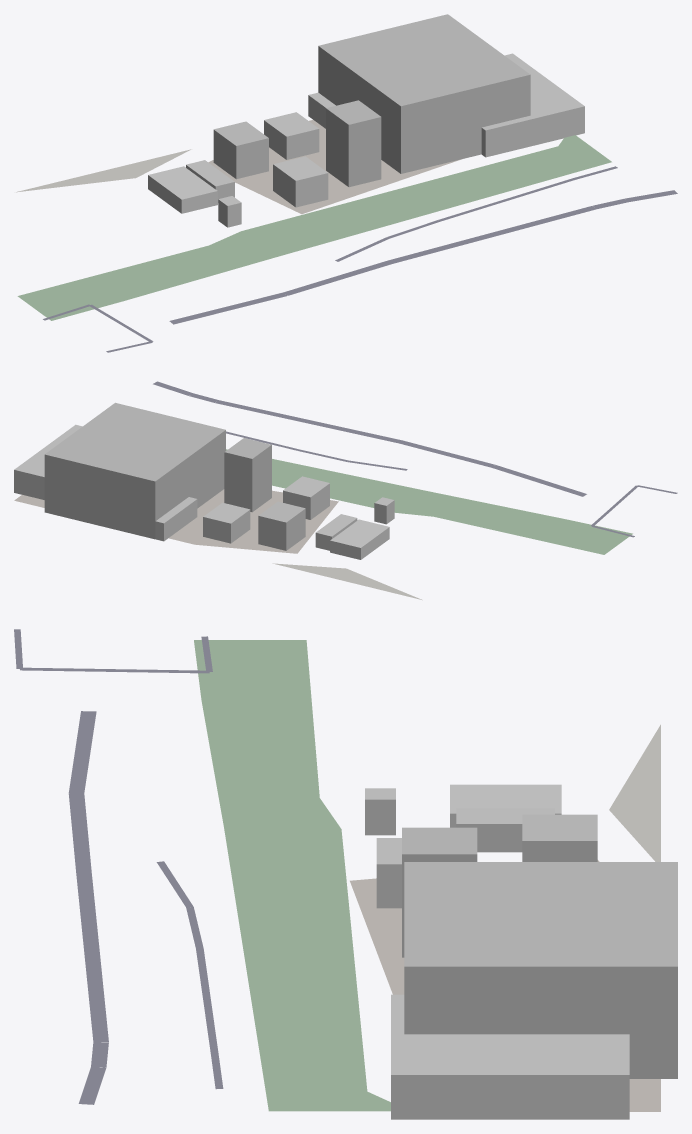
The model's file is 126_114_mid.glb.
3 renders of one model, top to bottom at view 1: azimuth 30°, elevation 25°; view 2: azimuth 150°, elevation 25°; view 3: azimuth 270°, elevation 25°, orthographic. The views are drawn at different scales.
Bounding box in the file's own units: 512 × 55.58 × 298.
